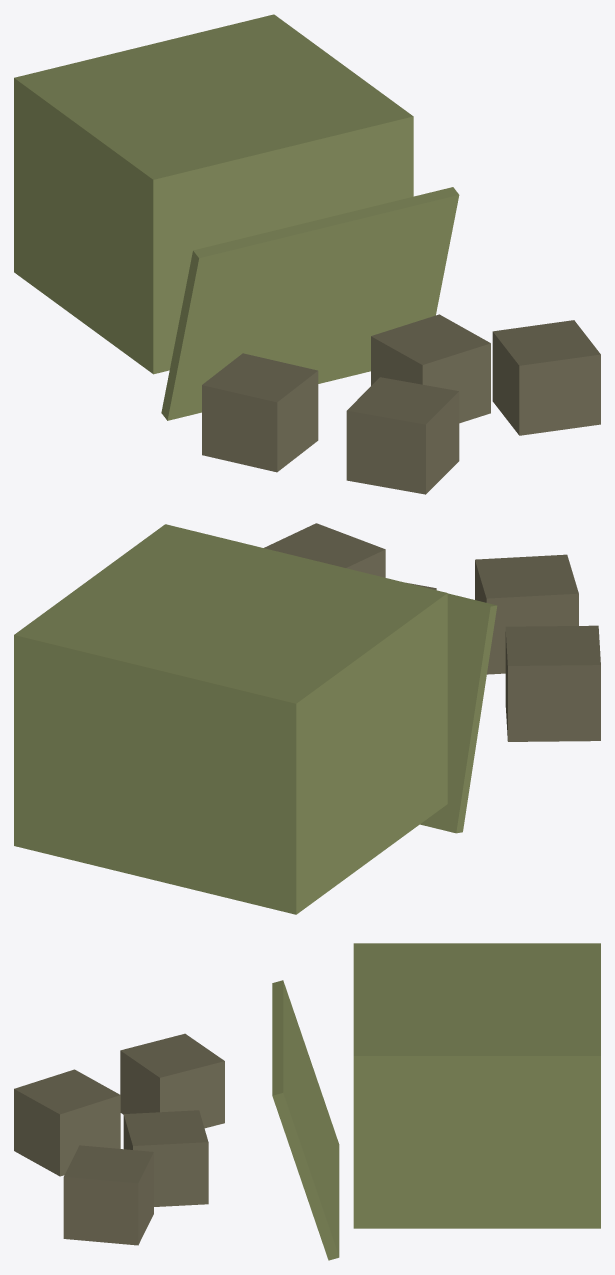
The model's file is SM_Contenedor_v3_Volcado_LOD1.fbx.
The picture shows the model from 3 angles, top to bottom: view 1: azimuth 30°, elevation 25°; view 2: azimuth 150°, elevation 25°; view 3: azimuth 270°, elevation 25°; orthographic projection. The views are drawn at different scales.
Parts seen in each view (by area): view 1: SM_urbano_extra_v3_LOD1; view 2: SM_urbano_extra_v3_LOD1; view 3: SM_urbano_extra_v3_LOD1.
Part boxes in pixels (<box>): SM_urbano_extra_v3_LOD1: <box>14,14,600,494</box>; SM_urbano_extra_v3_LOD1: <box>14,523,600,914</box>; SM_urbano_extra_v3_LOD1: <box>14,943,600,1260</box>.
Size of the model in its own units: 1.86 by 1.19 by 3.08.
